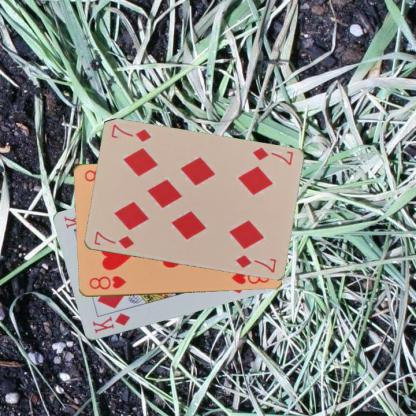7d: (250, 144, 294, 166), (91, 229, 135, 250)
8h: (86, 273, 127, 291)
Kd: (90, 311, 132, 334)
